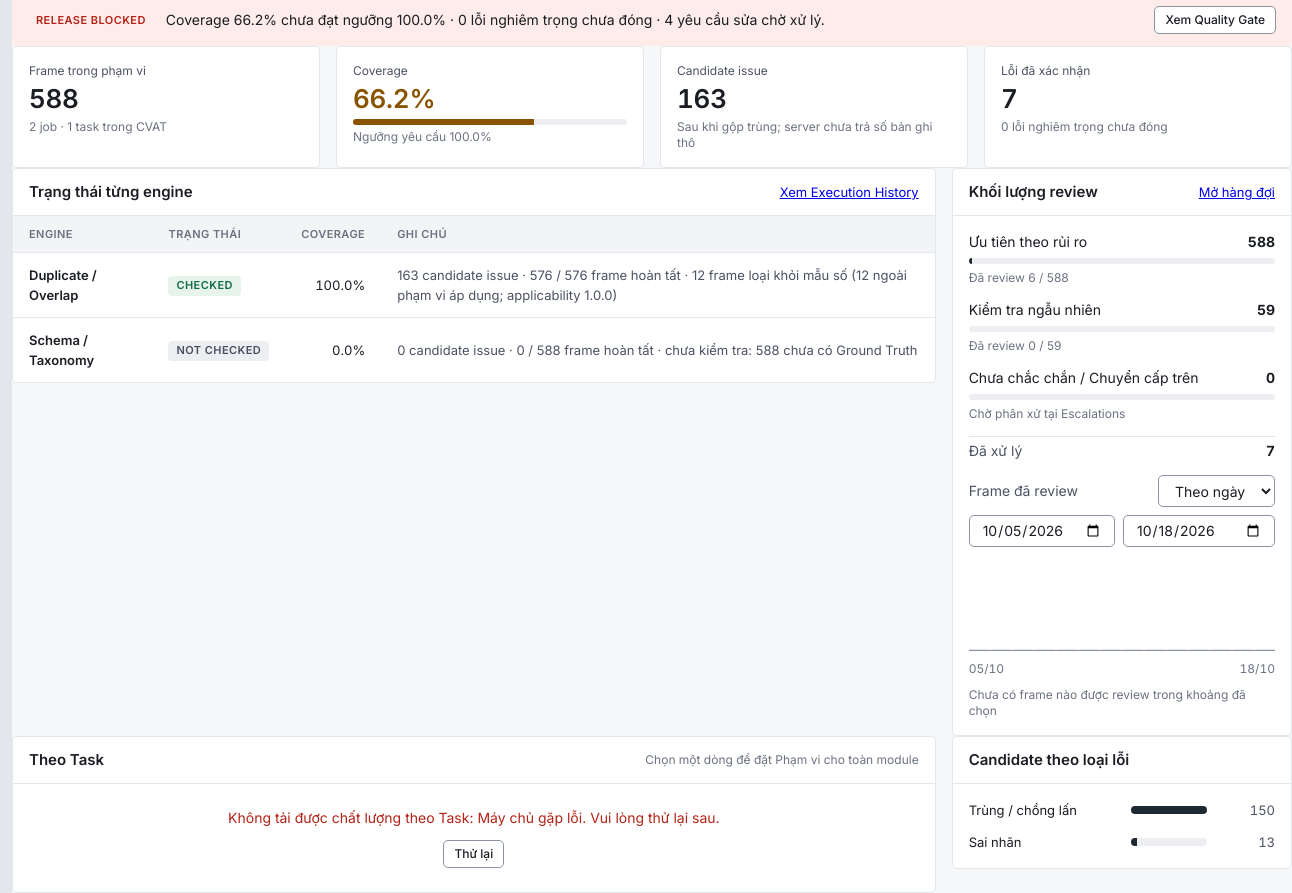
Test case: Overview: Quality Control Home và Quality Summary dùng dữ liệu thật › Quality Summary › tasks-quality 502 (CVAT không còn task của snapshot): hiện lỗi + Thử lại, không fallback
The width and height of the screenshot is (1292, 893).
(page scrolled)
Click the button "Thử lại". click: (474, 854)
box: [444, 840, 504, 868]
(page scrolled)
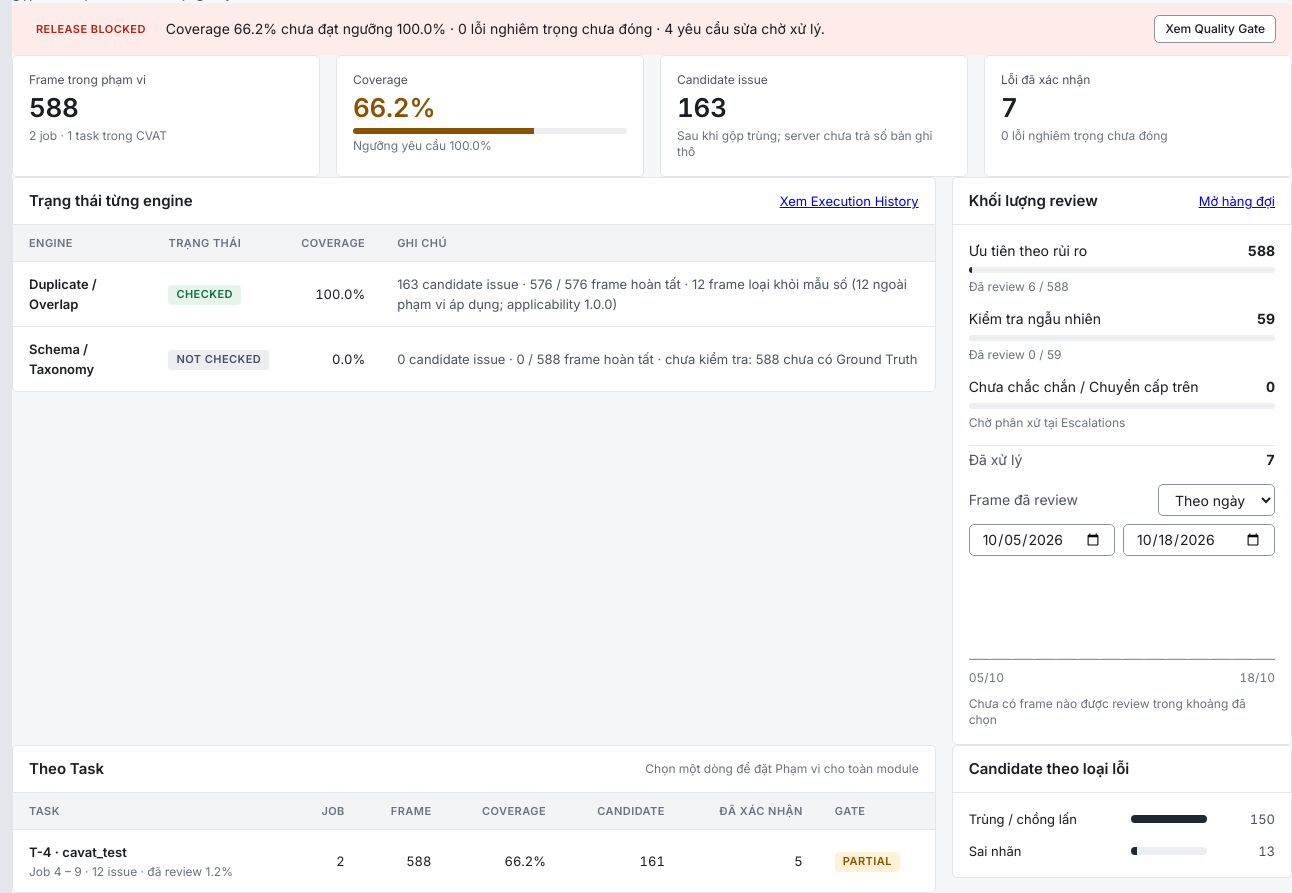
Expected: the row "T-4 · cavat_test" is shown, [13, 830, 935, 892]
